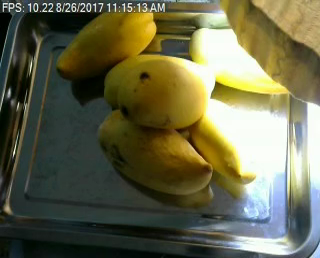Mango: (99, 110, 213, 193), (191, 28, 293, 95), (58, 6, 156, 75), (117, 57, 214, 126), (104, 54, 216, 111), (186, 97, 256, 182)
